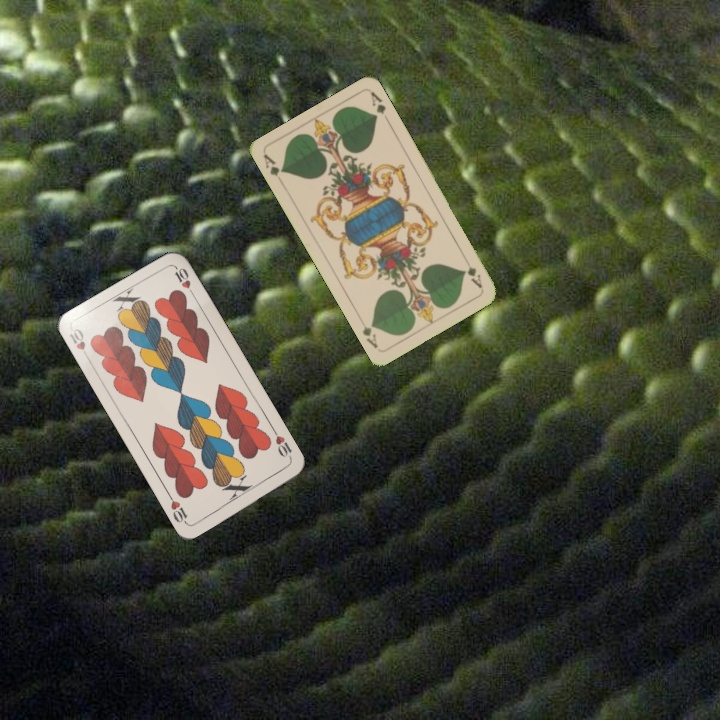GA: (459, 253, 485, 291), (260, 151, 287, 179)
H10: (65, 324, 93, 363), (269, 426, 295, 463)
